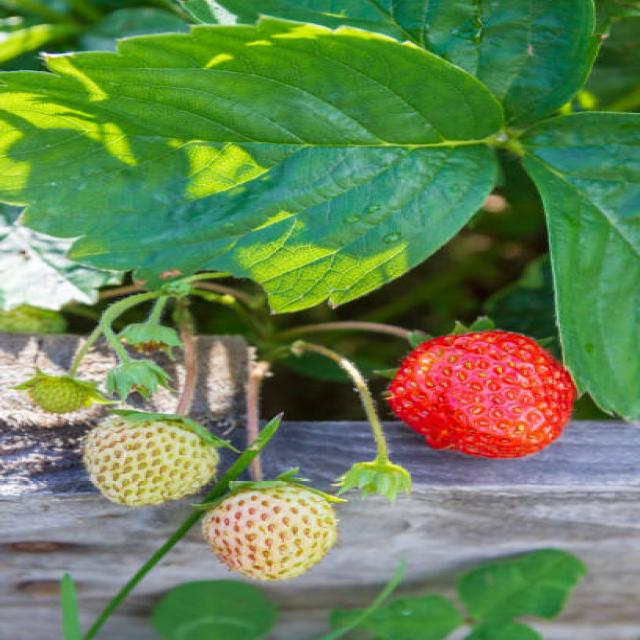Healthy Fruit: (385, 333, 576, 458), (204, 486, 338, 586), (82, 416, 220, 505)
